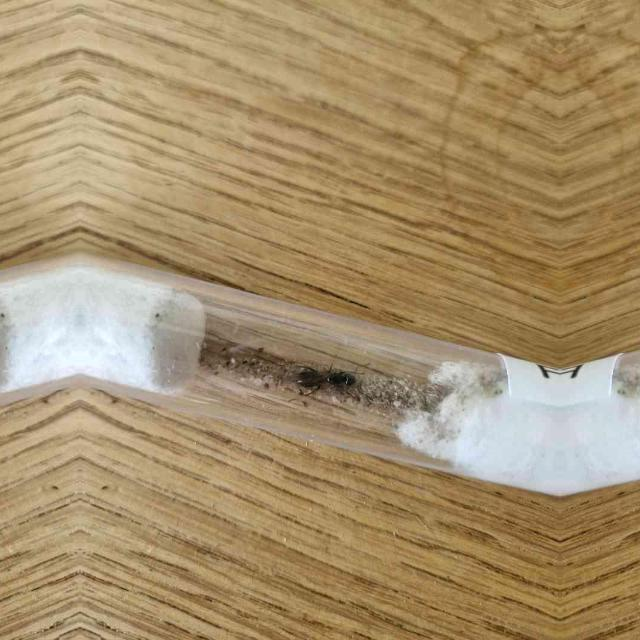Myrmica: (293, 349, 363, 409)
